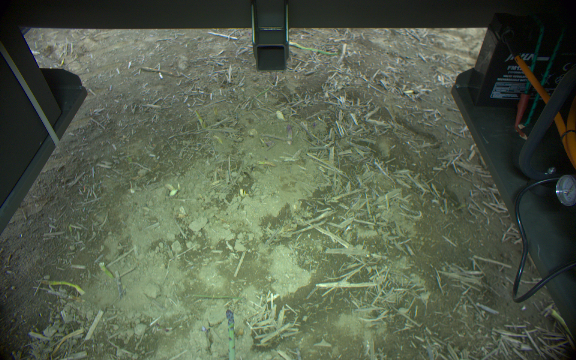aspa: (35, 277, 86, 296), (288, 40, 338, 56), (224, 307, 238, 360)
